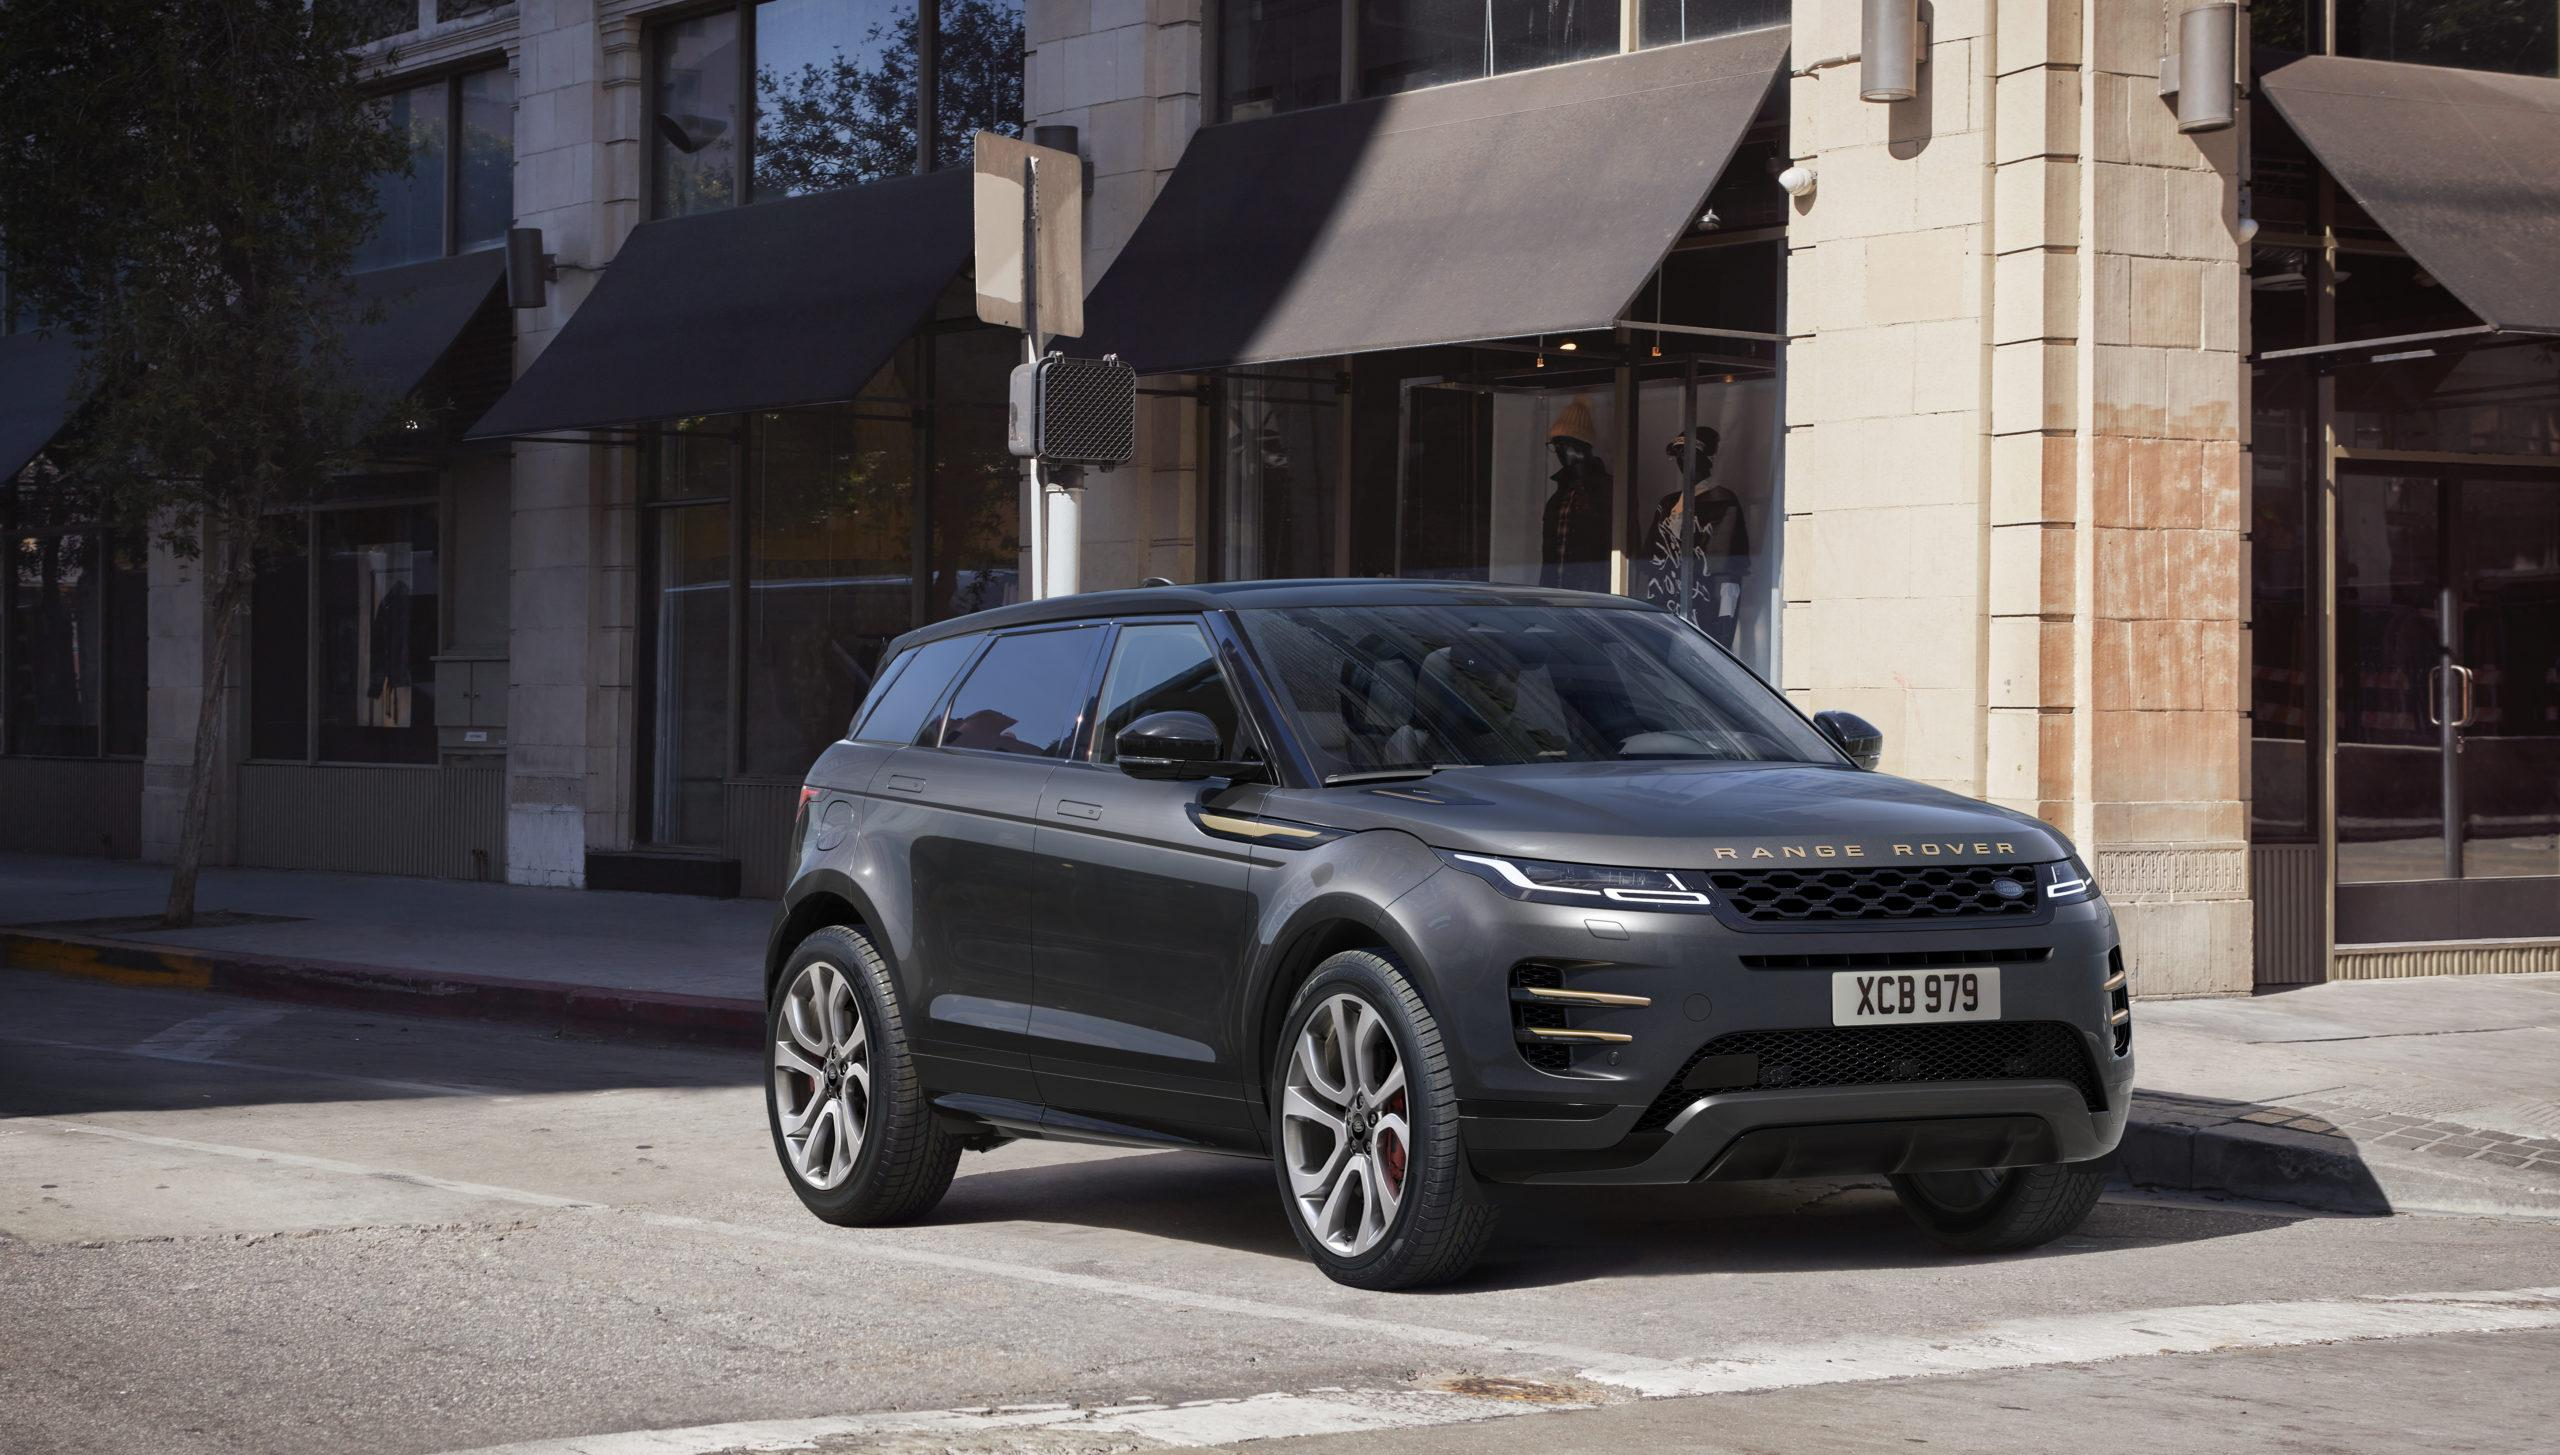range rover: (1697, 828, 2025, 877)
